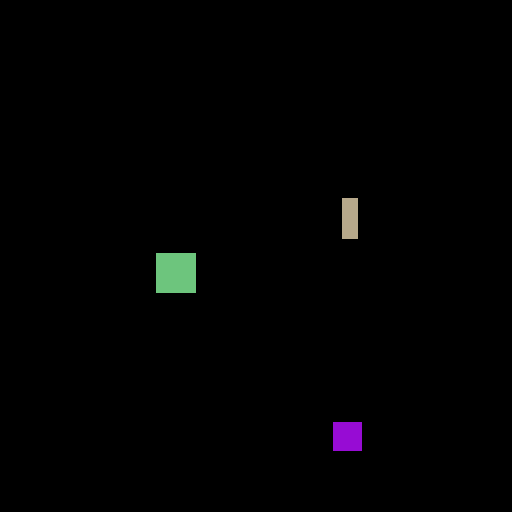square: (151, 247, 199, 297), (332, 419, 365, 452)
up_rect: (341, 196, 359, 241)
